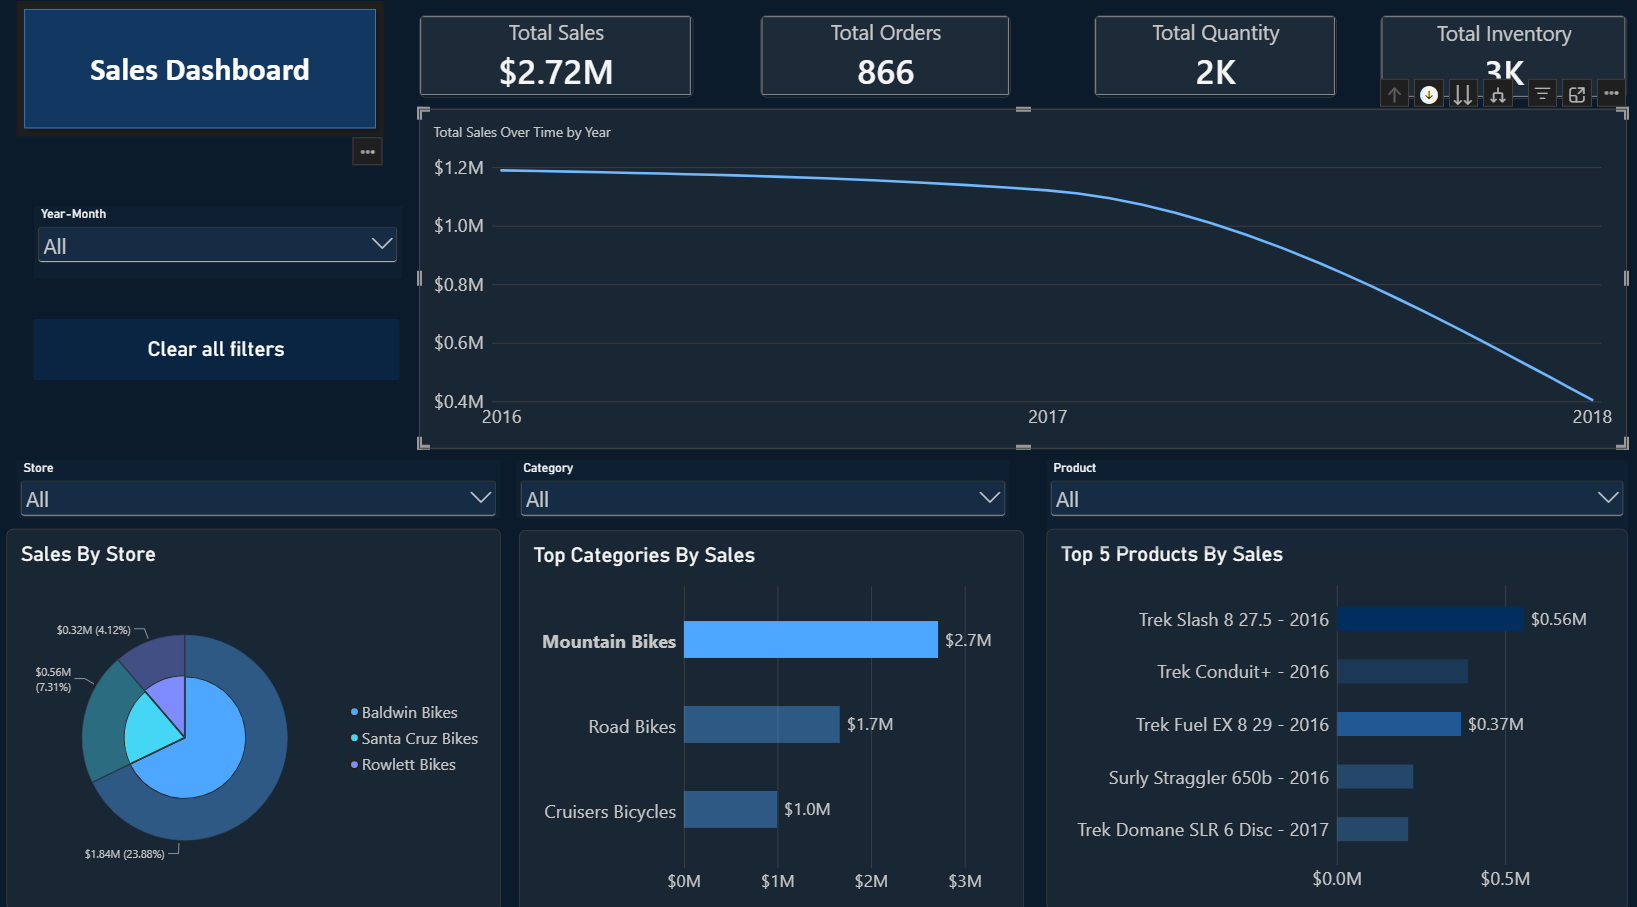

What the dashboard file says about the page in this screenshot:
{"tool":"powerbi","page":{"name":"Sales","canvas":[1920,1080],"ordinal":0},"visuals":[{"type":"cardVisual","fields":{"Data":["Fact_Sales.Total Sales"]},"box":[495,22.7,319,95.9],"z":0},{"type":"cardVisual","fields":{"Data":["Fact_Sales.Total Orders"]},"box":[890.6,22.7,291.1,95.9],"z":1000},{"type":"cardVisual","fields":{"Data":["Fact_Sales.Total Quantity"]},"box":[1279.3,22.7,282.4,95.9],"z":2000},{"type":"cardVisual","fields":{"Data":["Fact_Inventory.Total Inventory"]},"box":[1612.2,22.7,287.6,97.6],"z":3000},{"type":"lineChart","fields":{"Category":["DimDate.date.Variation.Date Hierarchy.Year","DimDate.date.Variation.Date Hierarchy.Quarter","DimDate.date.Variation.Date Hierarchy.Month","DimDate.date.Variation.Date Hierarchy.Day"],"Y":["Fact_Sales.Total Sales"]},"box":[495,132.5,1404.8,395.6],"z":4000},{"type":"pieChart","title":"Sales By Store","fields":{"Category":["DimStore.store_name"],"Y":["Fact_Sales.Total Sales"]},"box":[13.9,620.5,575.2,444.4],"z":5000},{"type":"clusteredBarChart","title":"Top 5 Products By Sales","fields":{"Category":["DimProduct.product_name"],"Y":["Fact_Sales.Total Sales"]},"box":[1223.5,620.5,676.3,444.4],"z":6000},{"type":"clusteredBarChart","title":"Top Categories By Sales","fields":{"Category":["DimProduct.category_name"],"Y":["Fact_Sales.Total Sales"]},"box":[613.5,620.5,587.4,444.4],"z":7000},{"type":"slicer","title":"Choose product name","fields":{"Values":["DimProduct.product_name"]},"box":[1223.5,540.3,676.3,104.6],"z":8000},{"type":"slicer","fields":{"Values":["DimDate.year_month"]},"box":[46.2,246.2,427.8,84.3],"z":9000},{"type":"slicer","fields":{"Values":["DimStore.store_name"]},"box":[26.1,540.3,563,68],"z":10000},{"type":"slicer","fields":{"Values":["DimProduct.category_name"]},"box":[608.3,540.3,573.4,68],"z":11000},{"type":"shape","box":[26.1,7,427,156.9],"z":12000},{"type":"actionButton","box":[45.3,376.5,427,71.5],"z":13000}]}

Visuals, with their boxes in screenshot pixels (x1, y1, x2, y2), scaled from the page's 1920x1080 canvas onto the 1637x907 screenshot:
cardVisual - Fact_Sales.Total Sales: bbox=[422, 19, 694, 100]
cardVisual - Fact_Sales.Total Orders: bbox=[759, 19, 1008, 100]
cardVisual - Fact_Sales.Total Quantity: bbox=[1091, 19, 1332, 100]
cardVisual - Fact_Inventory.Total Inventory: bbox=[1375, 19, 1620, 101]
lineChart - DimDate.date.Variation.Date Hierarchy.Year x DimDate.date.Variation.Date Hierarchy.Quarter: bbox=[422, 111, 1620, 444]
"Sales By Store" pieChart: bbox=[12, 521, 502, 894]
"Top 5 Products By Sales" clusteredBarChart: bbox=[1043, 521, 1620, 894]
"Top Categories By Sales" clusteredBarChart: bbox=[523, 521, 1024, 894]
"Choose product name" slicer: bbox=[1043, 454, 1620, 542]
slicer - DimDate.year_month: bbox=[39, 207, 404, 278]
slicer - DimStore.store_name: bbox=[22, 454, 502, 511]
slicer - DimProduct.category_name: bbox=[519, 454, 1008, 511]
shape: bbox=[22, 6, 386, 138]
actionButton: bbox=[39, 316, 403, 376]
